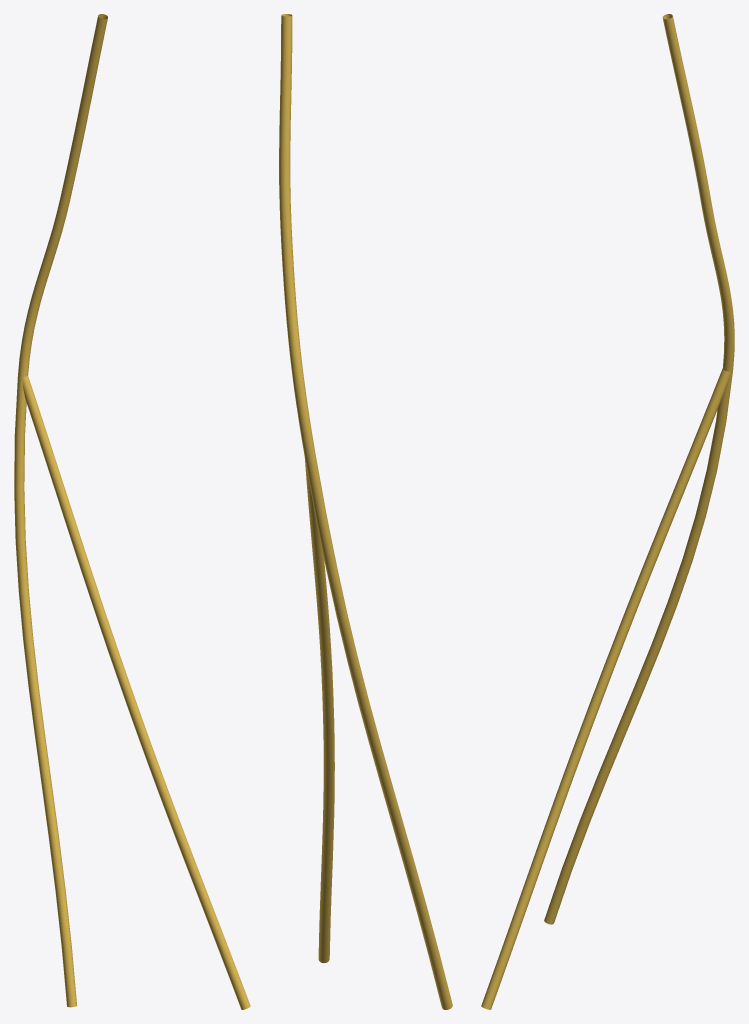
Rendered from Dorsal_branch_ulnar_nerve_right.glb.
3 views of the same model, side by side, from view 1: azimuth 30°, elevation 25°; view 2: azimuth 150°, elevation 25°; view 3: azimuth 270°, elevation 25° (orthographic). The views are drawn at different scales.
Visible parts, largest first — view 1: Dorsal_branch_of_ulnar_nerve.r_BezierCurve.534; view 2: Dorsal_branch_of_ulnar_nerve.r_BezierCurve.534; view 3: Dorsal_branch_of_ulnar_nerve.r_BezierCurve.534.
Part boxes in pixels (x1=…): Dorsal_branch_of_ulnar_nerve.r_BezierCurve.534: x1=14, y1=14, x2=250, y2=1009; Dorsal_branch_of_ulnar_nerve.r_BezierCurve.534: x1=279, y1=14, x2=452, y2=1009; Dorsal_branch_of_ulnar_nerve.r_BezierCurve.534: x1=481, y1=14, x2=734, y2=1009.
Size of the model in its own units: 0.0171 by 0.1014 by 0.0241.
